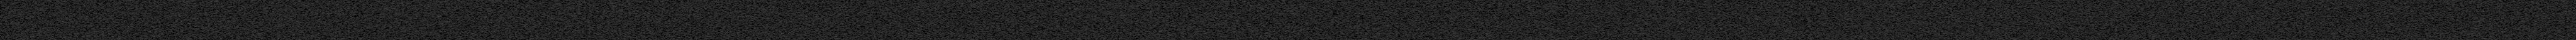wv_cw: (324, 0, 327, 40), (110, 0, 113, 40)
wv_dvbt_8kfft: (743, 0, 1748, 40)
wv_usb: (18, 0, 21, 40)
